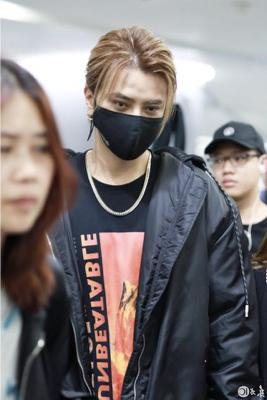with_mask: (92, 90, 165, 156)
without_mask: (0, 128, 56, 233), (210, 147, 259, 198)
